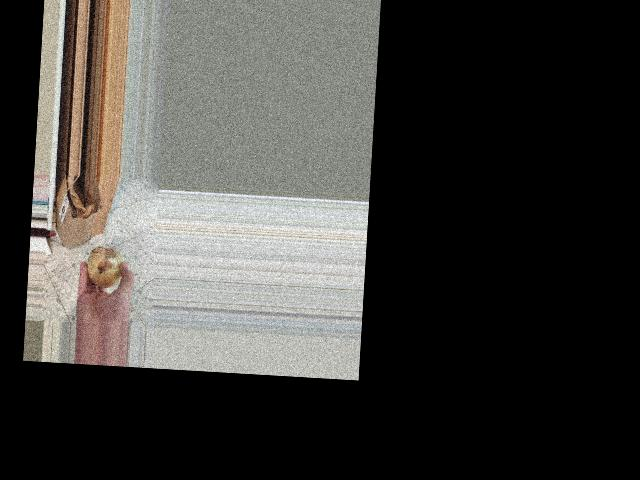onion: (85, 244, 128, 293)
